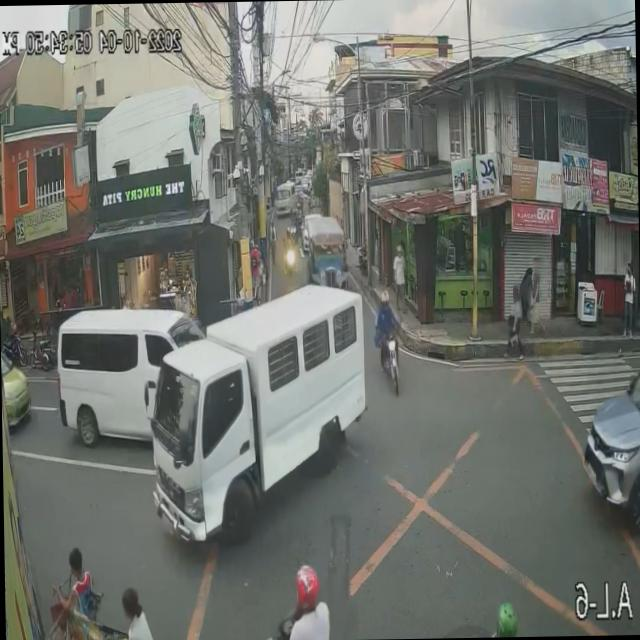full: (380, 290, 390, 311)
half: (296, 563, 317, 610)
invalid: (498, 600, 518, 634)
